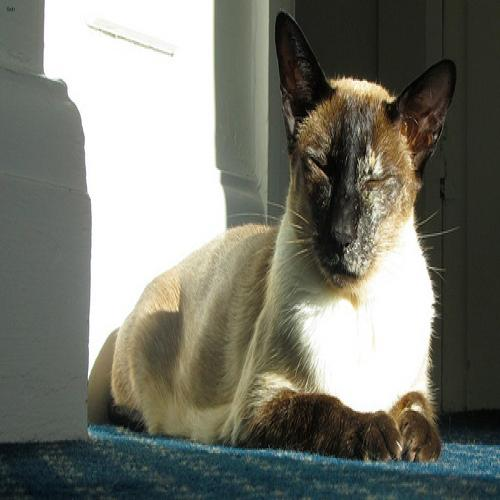siamese: (243, 1, 466, 318)
